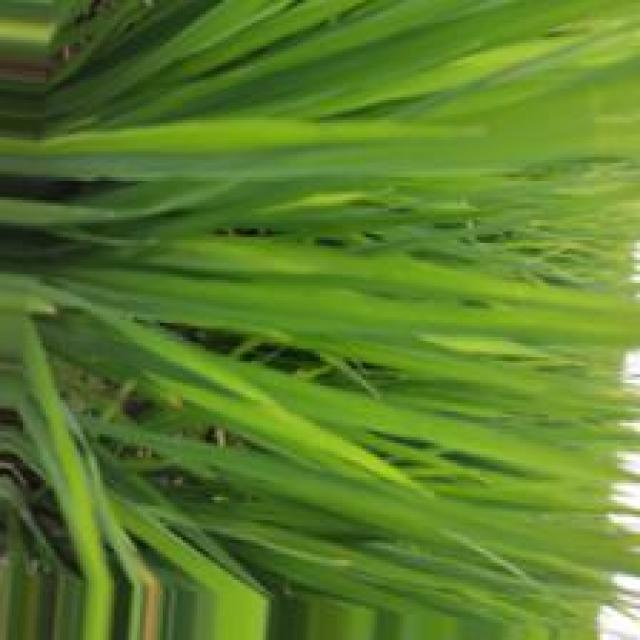HealthyLeaf: (239, 368, 377, 424), (154, 277, 269, 330)
